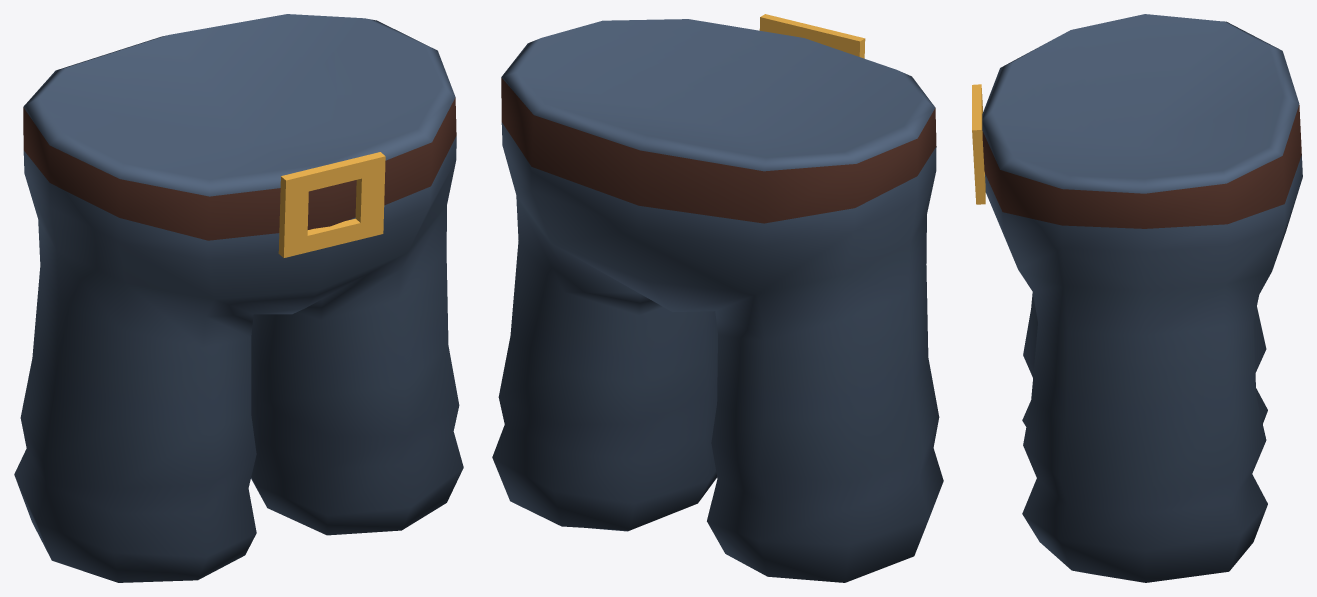
Rendered from Bottom_35.fbx.
3 views of the same model, side by side, from view 1: azimuth 30°, elevation 25°; view 2: azimuth 150°, elevation 25°; view 3: azimuth 270°, elevation 25° (orthographic). The views are drawn at different scales.
Parts seen in each view (by area): view 1: Bottom_35; view 2: Bottom_35; view 3: Bottom_35.
Boxes of the visible parts, x1,y1,x2,y2 form: Bottom_35: (14, 14, 463, 582); Bottom_35: (492, 14, 943, 582); Bottom_35: (972, 14, 1302, 582).
Bounding box in the file's own units: 40.94 × 41.32 × 30.32.
